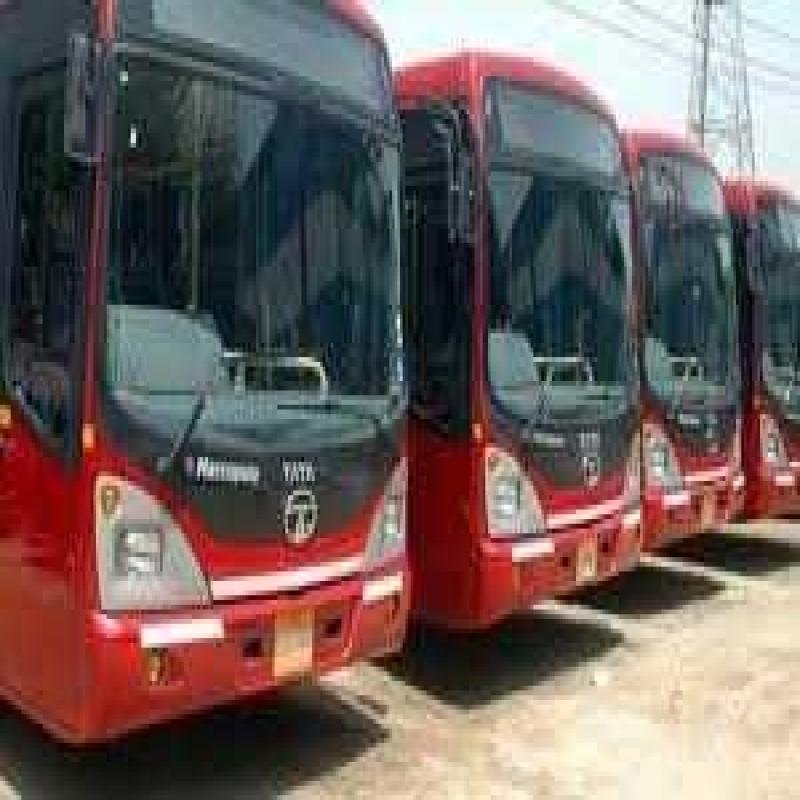bus: (0, 0, 429, 743), (458, 18, 646, 665), (619, 24, 762, 600)
